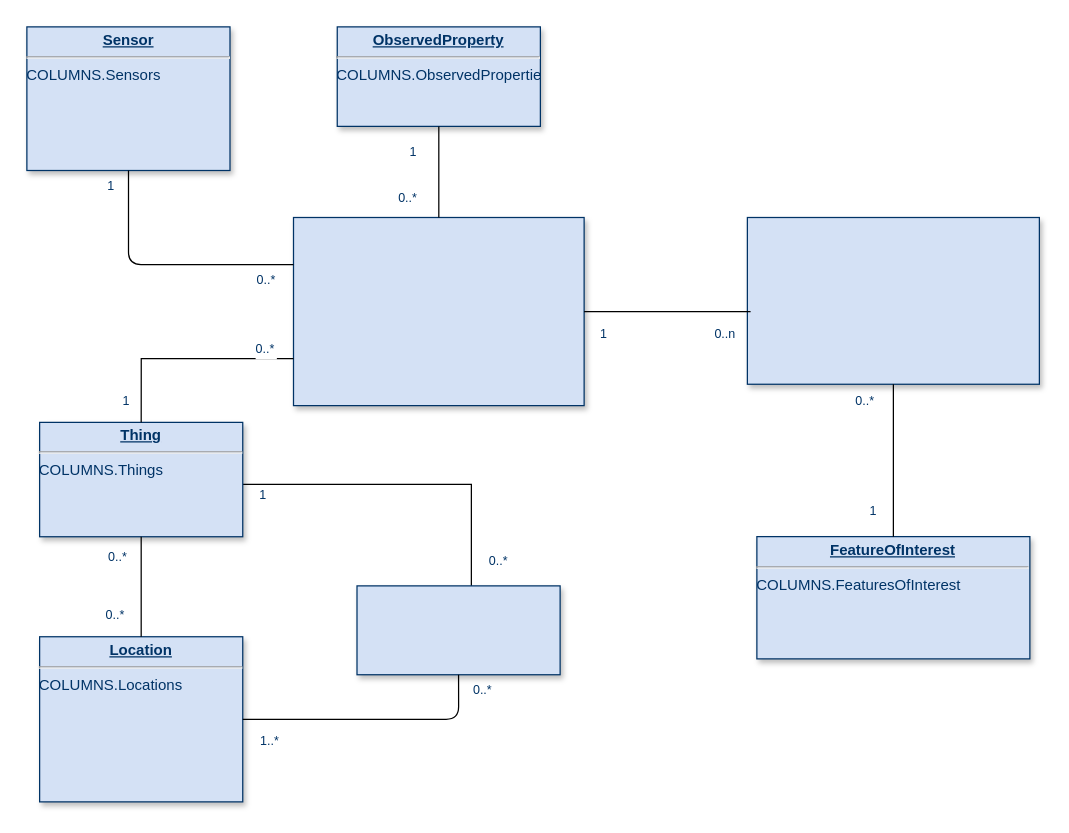
Image size: 1069x833. Some labels were removed from this diagram. Here are the shapes that lost their labels. From the top down, the centre of each, then its label:
At [439,312]: "Datastream COLUMNS.Datastreams".
At [894,302]: "Observation COLUMNS.Observations".
At [459,632]: "HistoricalLocation COLUMNS.HistoricalLocations".
